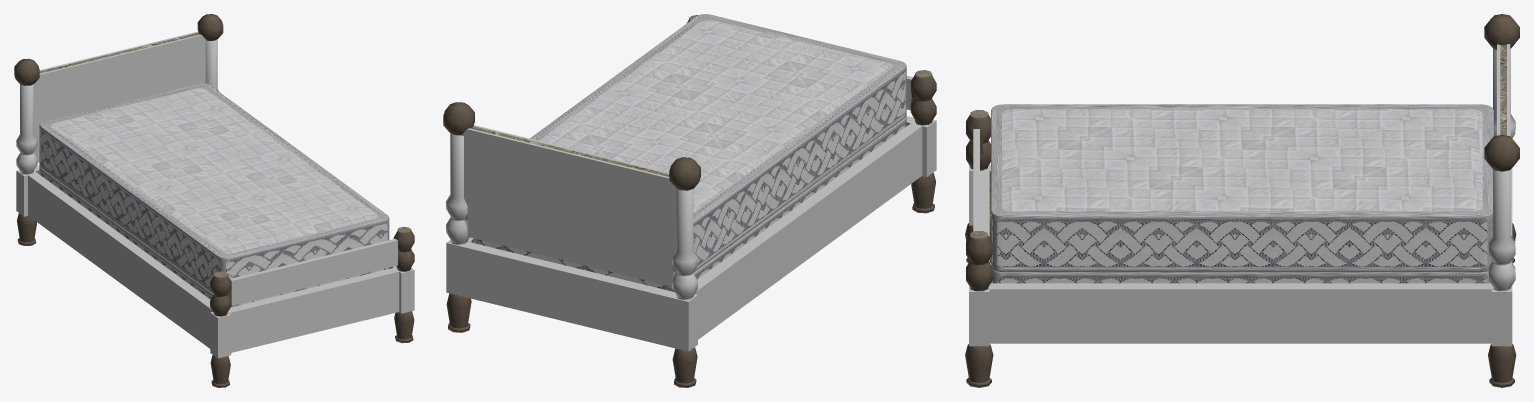
The model's file is BedATwinMattress.fbx.
3 views of the same model, side by side, from view 1: azimuth 30°, elevation 25°; view 2: azimuth 150°, elevation 25°; view 3: azimuth 270°, elevation 25° (orthographic). The views are drawn at different scales.
Parts seen in each view (by area): view 1: BedATwinMattress; view 2: BedATwinMattress; view 3: BedATwinMattress.
Boxes of the visible parts, left/top/right/bottom form: BedATwinMattress: left=14, top=14, right=414, bottom=387; BedATwinMattress: left=443, top=14, right=936, bottom=387; BedATwinMattress: left=965, top=14, right=1519, bottom=387.
Size of the model in its own units: 143 by 120 by 246.
